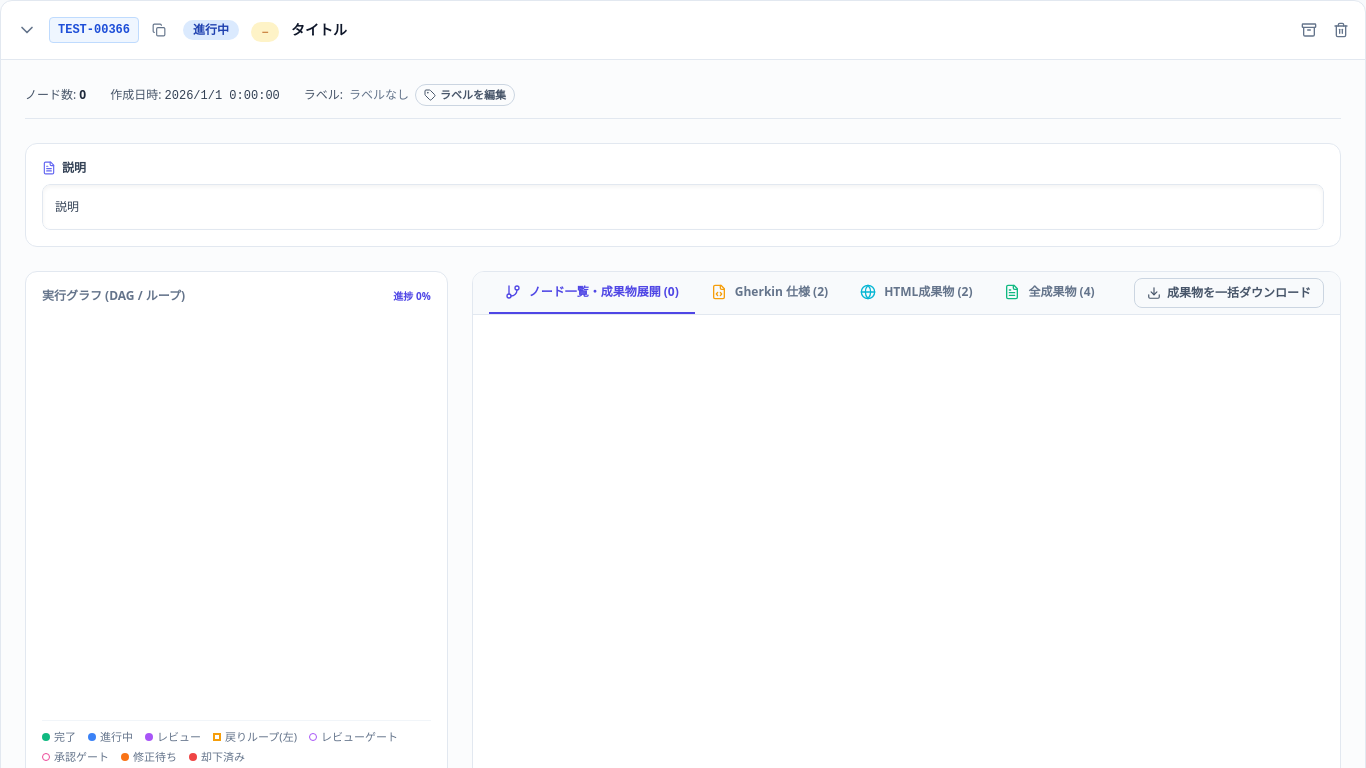
Test: DFLT-00366 Gherkin tab: "open in new tab" label and date in the header row › row, name, right group, link and date carry the wrap classes (g-long)
Click the tab "Gherkin 仕様 (2)" at coordinates (769, 292), box left=695, top=272, right=844, bottom=314
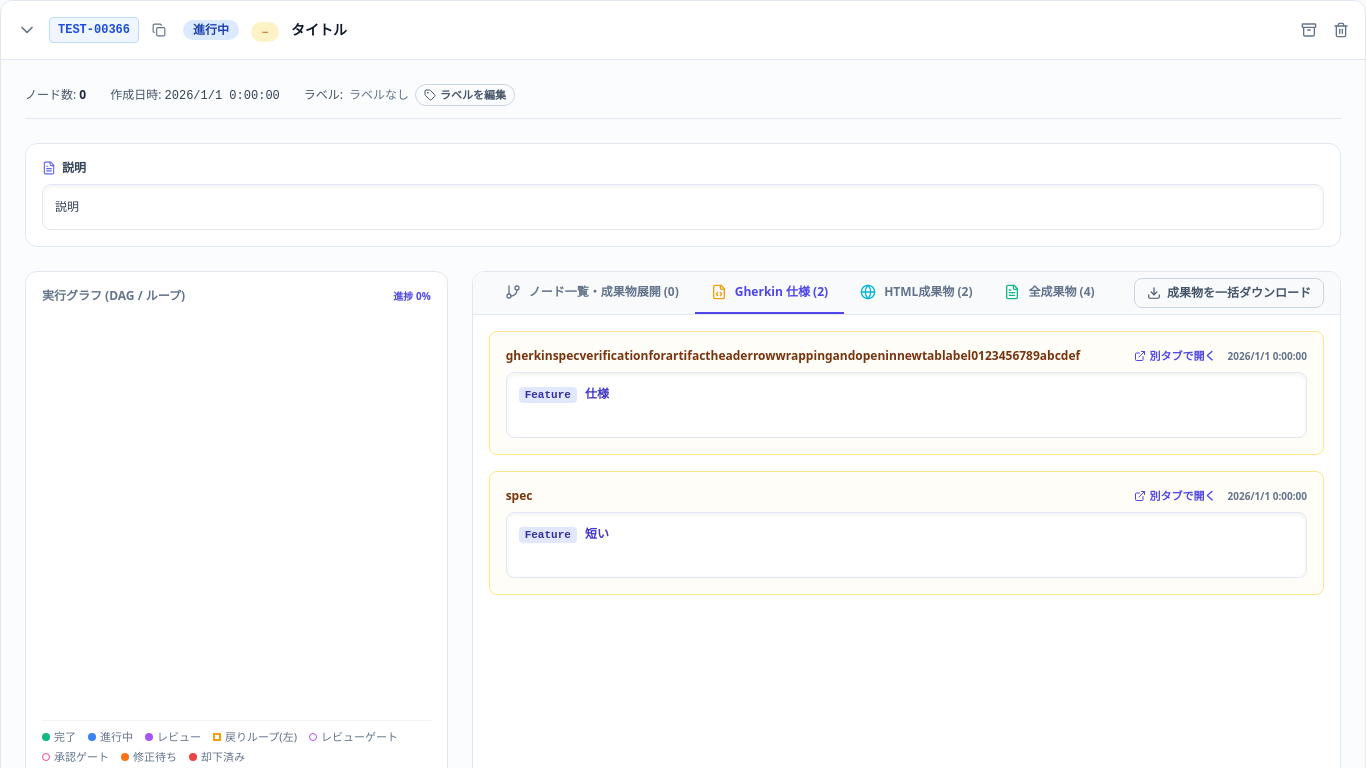
Expected: the 1st link "別タブで開く" is shown, left=1134, top=348, right=1216, bottom=364
